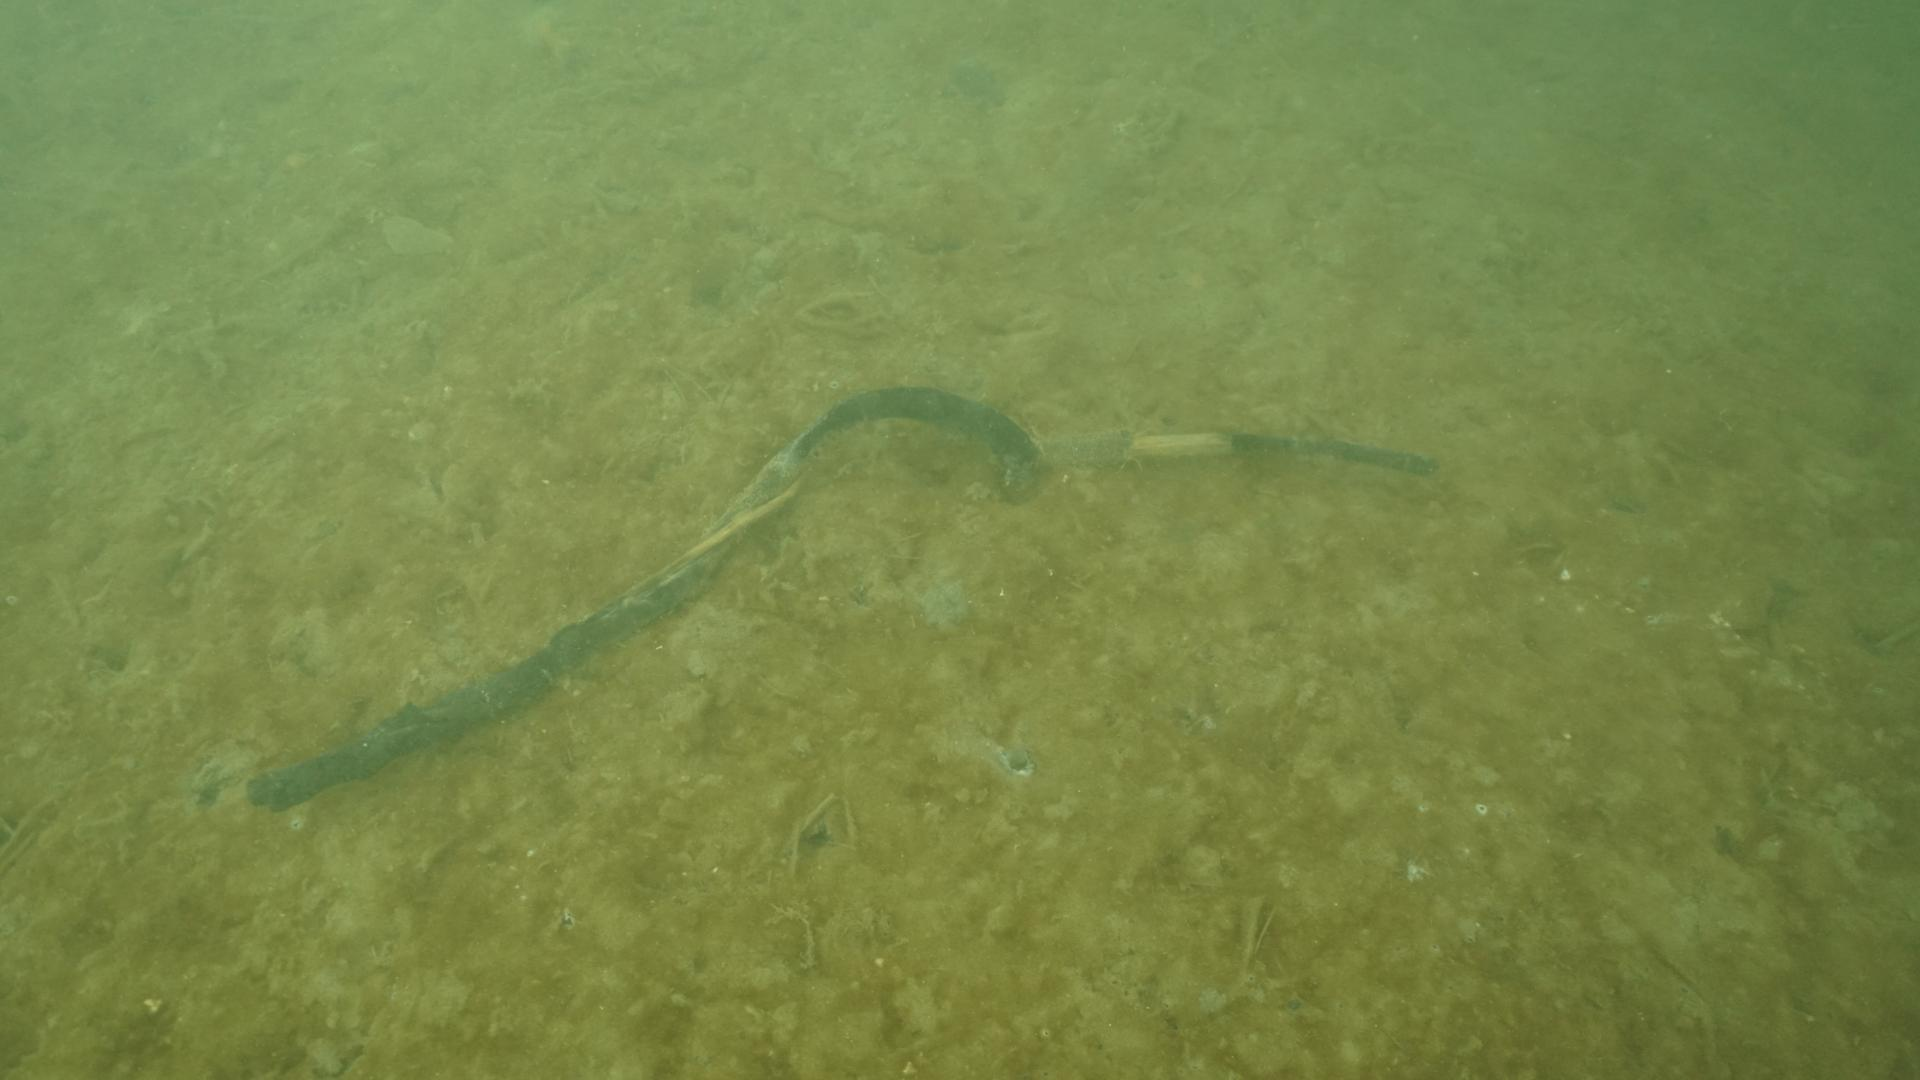wood: (245, 382, 1439, 814)
